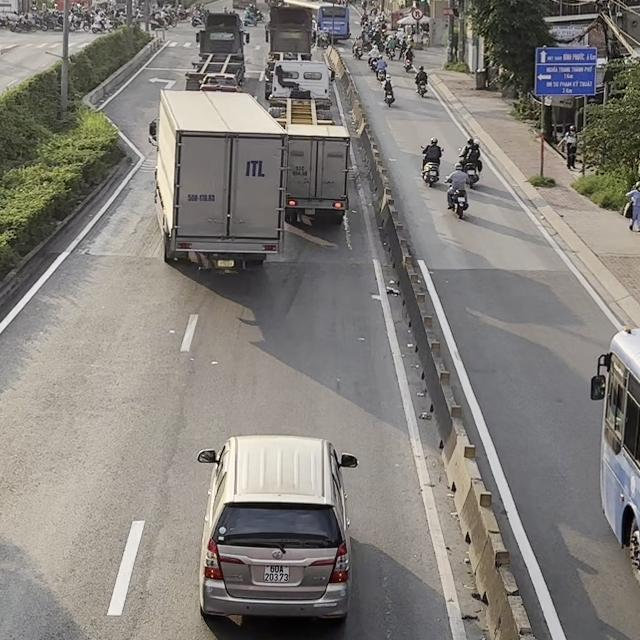bus: (589, 325, 639, 590), (278, 0, 350, 42)
car: (196, 433, 358, 626)
motorcycle: (444, 176, 469, 219), (420, 146, 445, 187), (458, 147, 481, 187), (382, 77, 395, 106), (414, 77, 428, 97), (351, 39, 362, 58), (375, 66, 387, 81), (403, 54, 413, 72)
truck: (151, 88, 288, 273), (283, 122, 351, 225), (184, 12, 250, 92), (264, 5, 317, 99), (268, 60, 336, 126), (317, 1, 350, 42)
